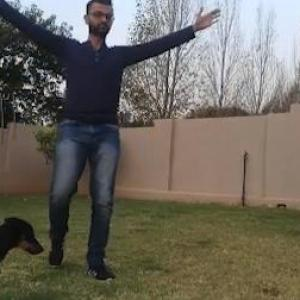takeoff: (0, 0, 235, 285)
